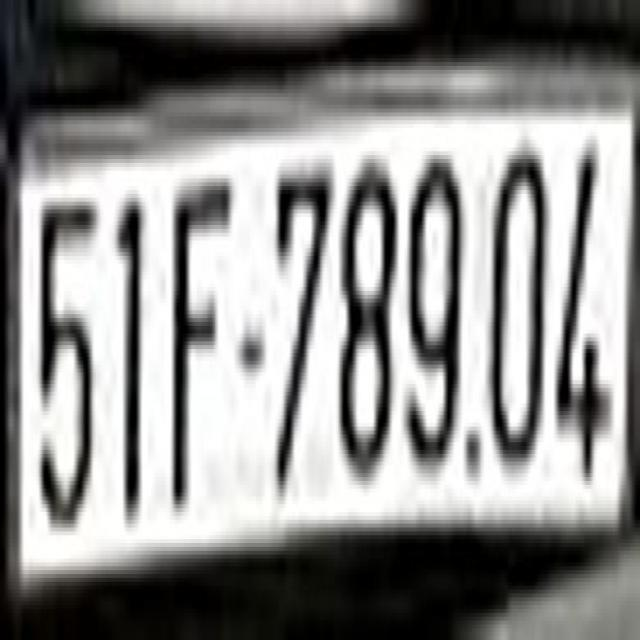0: (498, 151, 547, 458)
1: (115, 178, 144, 524)
4: (558, 143, 612, 466)
5: (41, 202, 92, 512)
7: (272, 143, 334, 481)
8: (340, 162, 400, 474)
9: (406, 151, 459, 458)
F: (174, 159, 234, 516)
